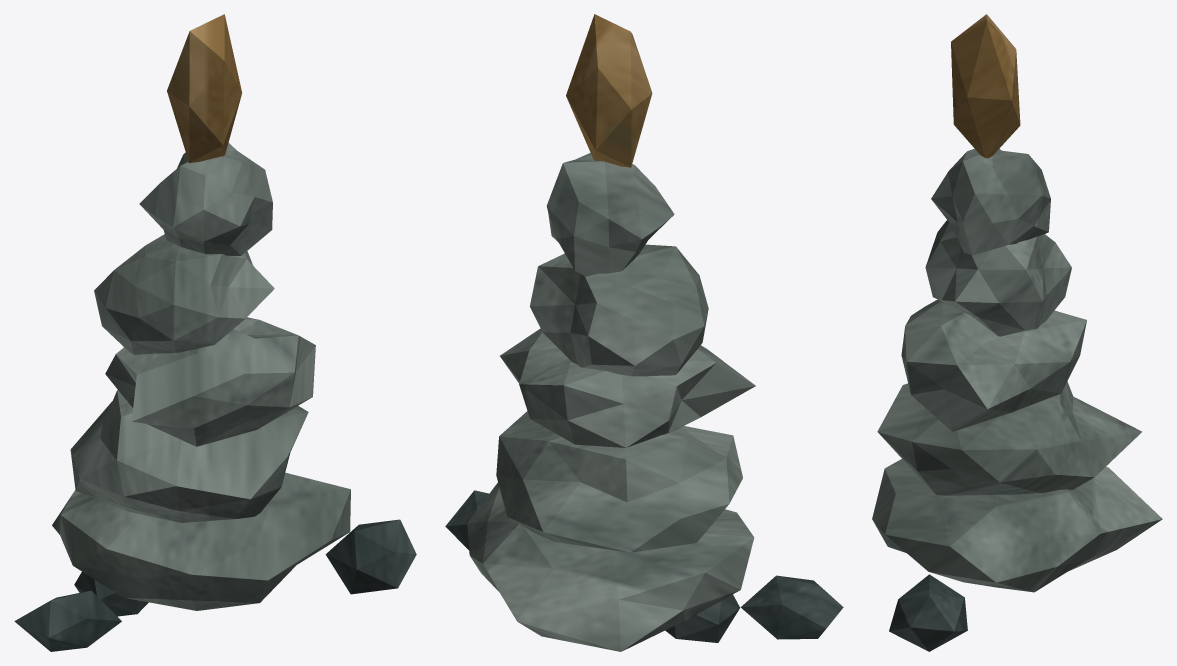
The model's file is 0625_cairn_25.glb.
3 renders of one model, left to right at view 1: azimuth 30°, elevation 25°; view 2: azimuth 150°, elevation 25°; view 3: azimuth 270°, elevation 25°, orthographic. The views are drawn at different scales.
Visible parts, largest first — view 1: stone, stone_dark, brass; view 2: stone, brass, stone_dark; view 3: stone, brass, stone_dark.
Part boxes in pixels (x1,y1,x2,y2): stone: [52, 143, 350, 610]; stone_dark: [14, 519, 416, 651]; brass: [167, 14, 241, 163]; stone: [467, 153, 755, 651]; brass: [566, 14, 652, 167]; stone_dark: [445, 490, 843, 642]; stone: [872, 149, 1162, 592]; brass: [951, 14, 1020, 158]; stone_dark: [889, 574, 967, 651].
Bounding box in the file's own units: 1.49 × 2.18 × 1.02.
3 materials, 3 textured.
